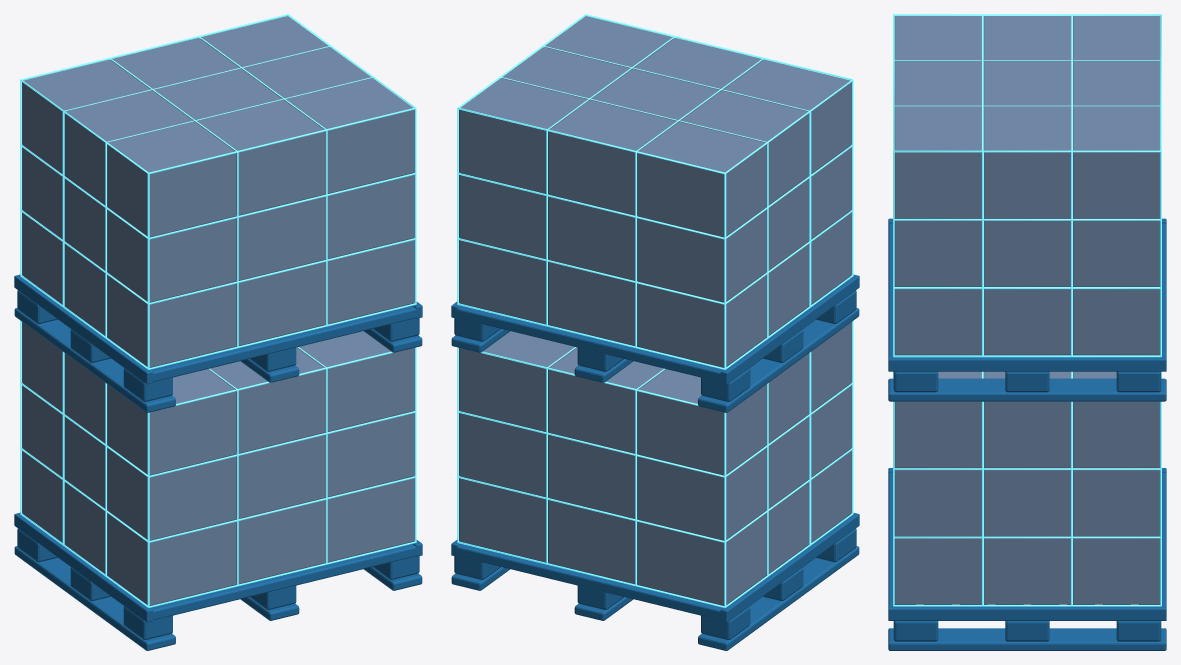
Rendered from SM_GHS_Presentation_CargoMid.fbx.
3 renders of one model, left to right at view 1: azimuth 30°, elevation 25°; view 2: azimuth 150°, elevation 25°; view 3: azimuth 270°, elevation 25°, orthographic. The views are drawn at different scales.
Parts seen in each view (by area): view 1: SM_GHS_Presentation_CargoMid; view 2: SM_GHS_Presentation_CargoMid; view 3: SM_GHS_Presentation_CargoMid.
Part boxes in pixels (x1,y1,x2,y2): SM_GHS_Presentation_CargoMid: (14, 14, 422, 650); SM_GHS_Presentation_CargoMid: (451, 14, 859, 650); SM_GHS_Presentation_CargoMid: (888, 14, 1166, 650).
Size of the model in its own units: 120 by 100 by 198.
